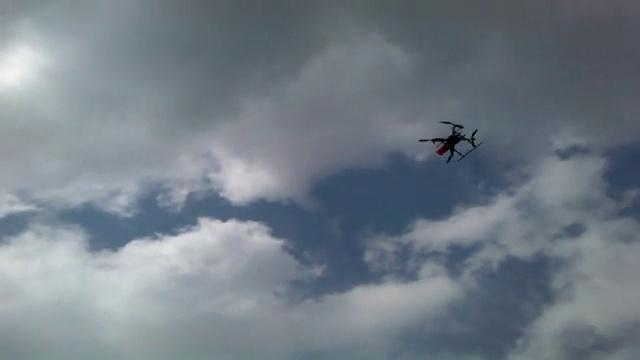drone: (415, 118, 482, 165)
